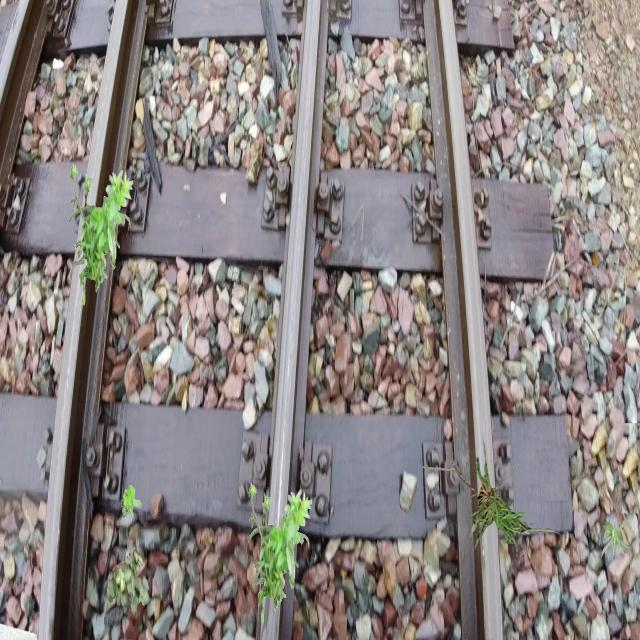Plant: (422, 436, 566, 556), (69, 162, 134, 306), (248, 482, 312, 626), (107, 549, 150, 616), (601, 518, 634, 564), (121, 485, 142, 518)
